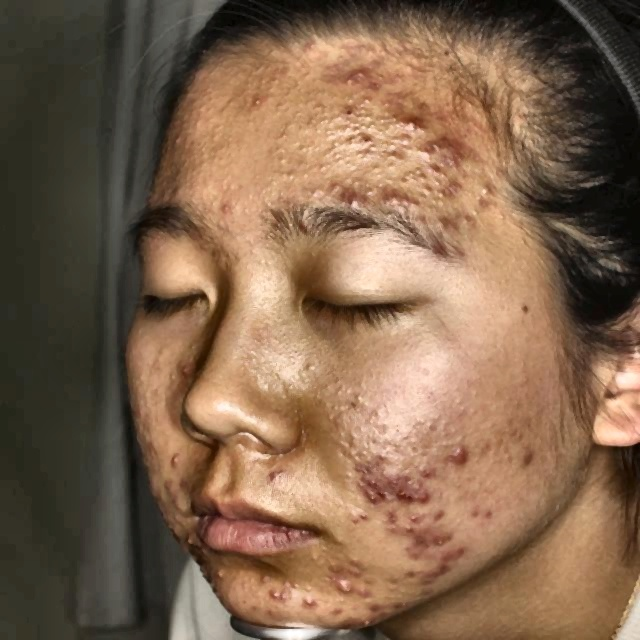nodule: (396, 128, 434, 166), (257, 577, 295, 614), (342, 553, 378, 586), (440, 161, 483, 187), (426, 231, 459, 263), (404, 198, 431, 235), (443, 124, 473, 157), (396, 508, 424, 540), (436, 208, 472, 232), (428, 167, 454, 200), (472, 175, 500, 202), (300, 592, 330, 616), (396, 564, 424, 589), (380, 187, 406, 212), (420, 461, 443, 488), (399, 484, 423, 509), (333, 578, 360, 600), (396, 109, 421, 131), (518, 447, 540, 472), (264, 468, 294, 486), (358, 482, 385, 501), (442, 449, 472, 466), (438, 550, 474, 564), (427, 533, 451, 553), (212, 567, 236, 587), (334, 192, 360, 210), (160, 478, 182, 499), (171, 497, 191, 519), (346, 63, 369, 82), (250, 90, 273, 108), (421, 143, 440, 163), (383, 594, 401, 614), (423, 506, 449, 519), (355, 611, 375, 627), (429, 563, 440, 591), (404, 539, 419, 557), (327, 558, 342, 572), (360, 583, 372, 600)
